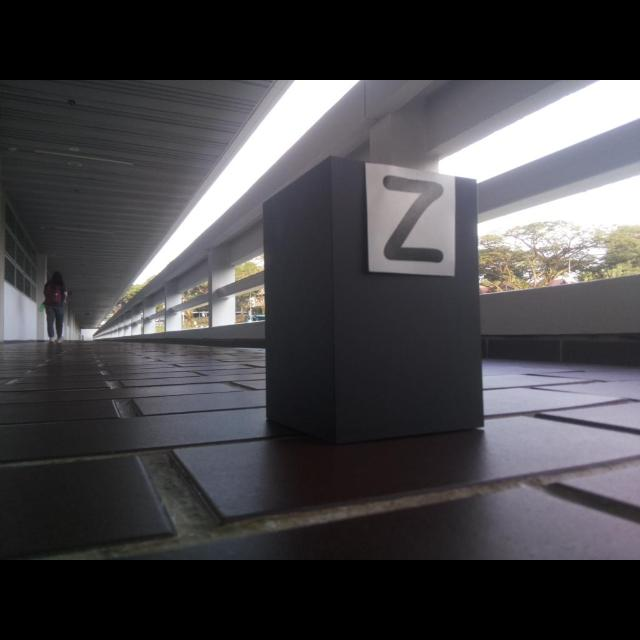Z: (383, 176, 444, 262)
